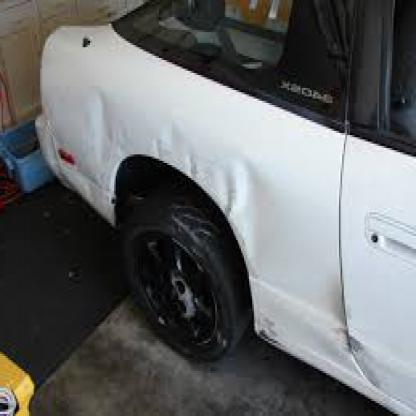dent: (85, 82, 109, 134), (148, 116, 176, 154), (218, 170, 233, 205)
